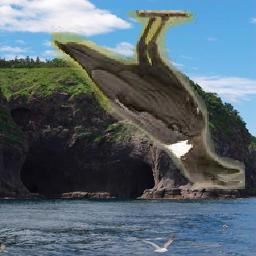Crow: (51, 11, 245, 190)
